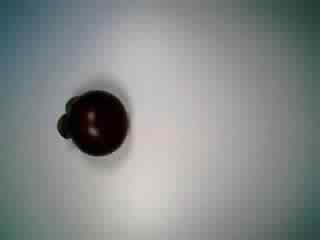mangosteen: (49, 80, 137, 158)
